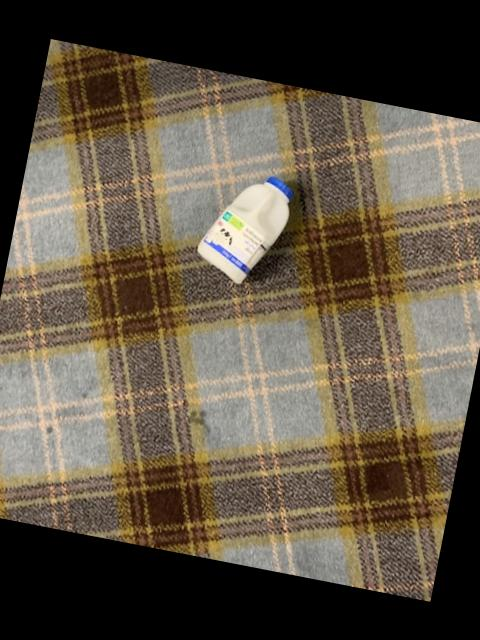plastic: (195, 175, 289, 281)
